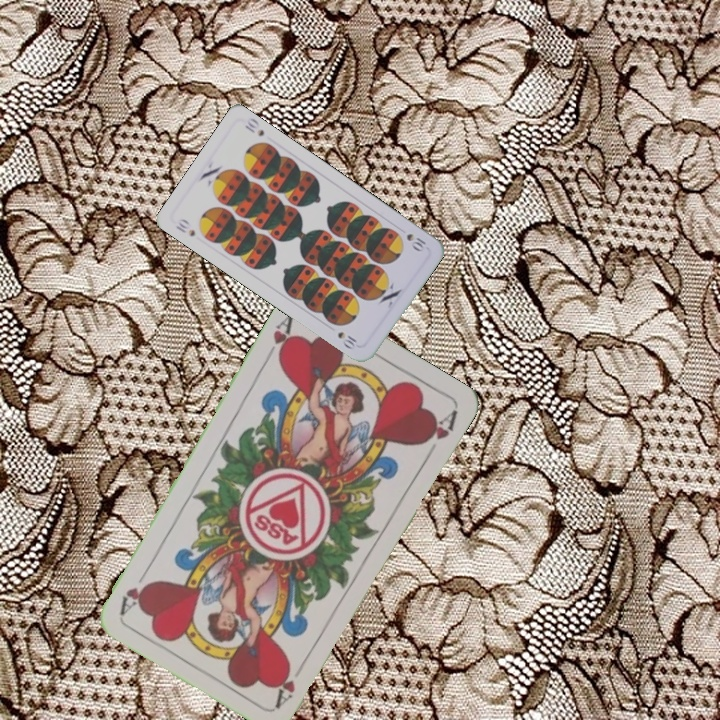HA: (271, 655, 310, 709), (261, 309, 297, 364)
S10: (402, 229, 428, 255), (172, 215, 198, 239)
